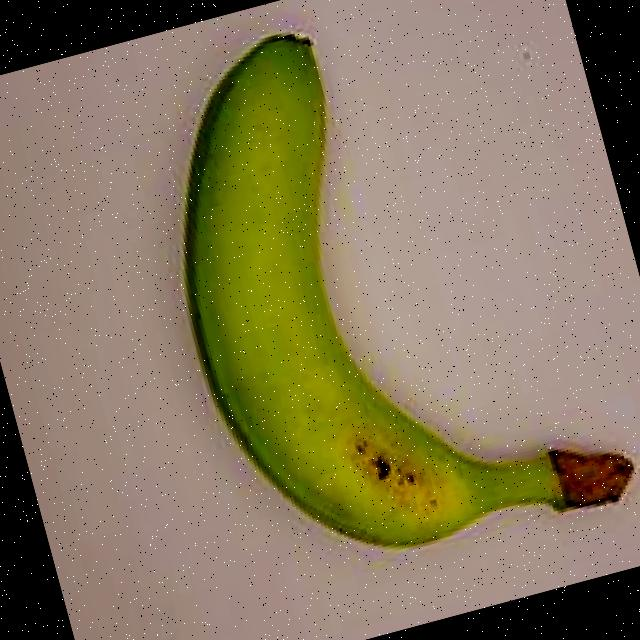Unripe: (85, 0, 640, 625)
